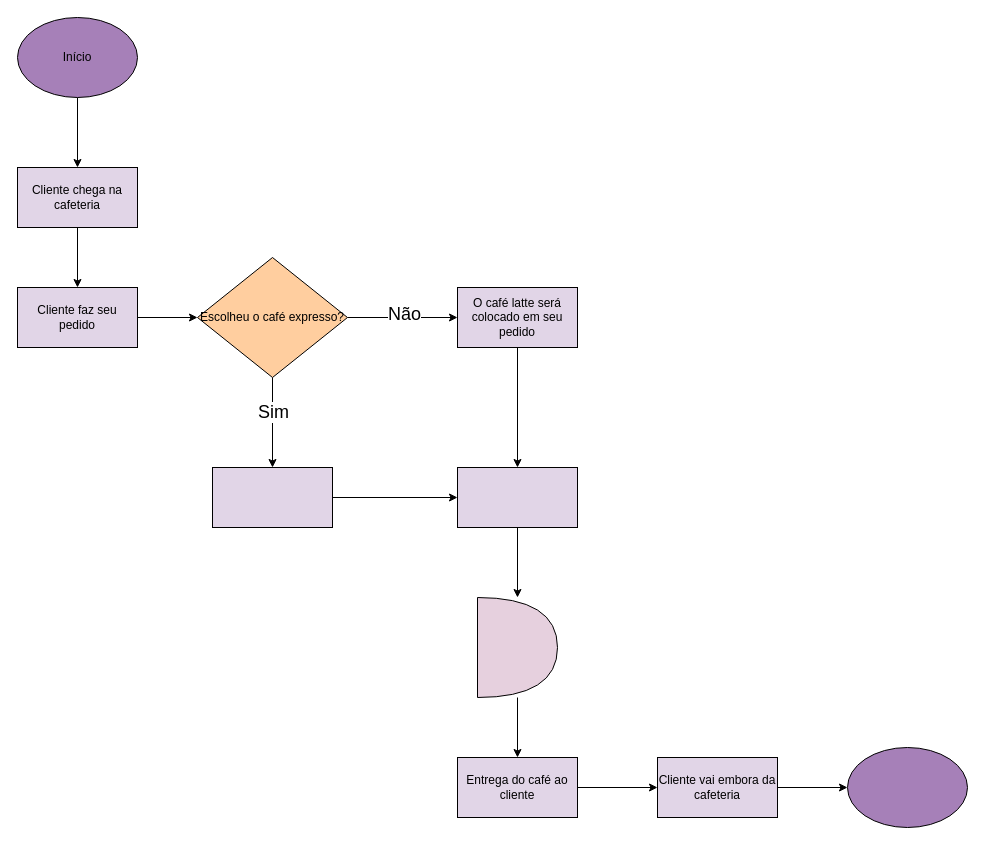
The diagram is 985 pixels wide and 845 high, and some of its shapes have lost their labels. The centre of each missing label's shape, as x and y in pixels:
"Cliente pagará o seu pedido" goes at [517,497].
"Fim" goes at [907,787].
"O café expresso será colocado em seu pedido" goes at [272,497].
"O pedido será preparado" goes at [517,647].
